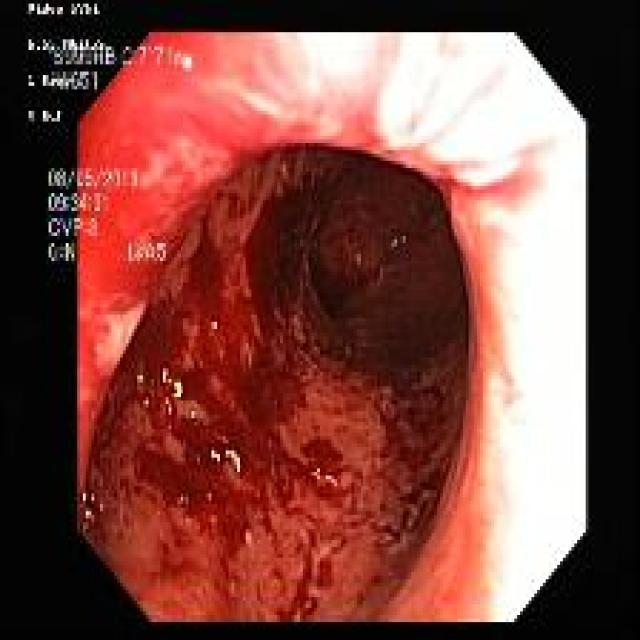ulcerative-colitis: (81, 145, 469, 620)
